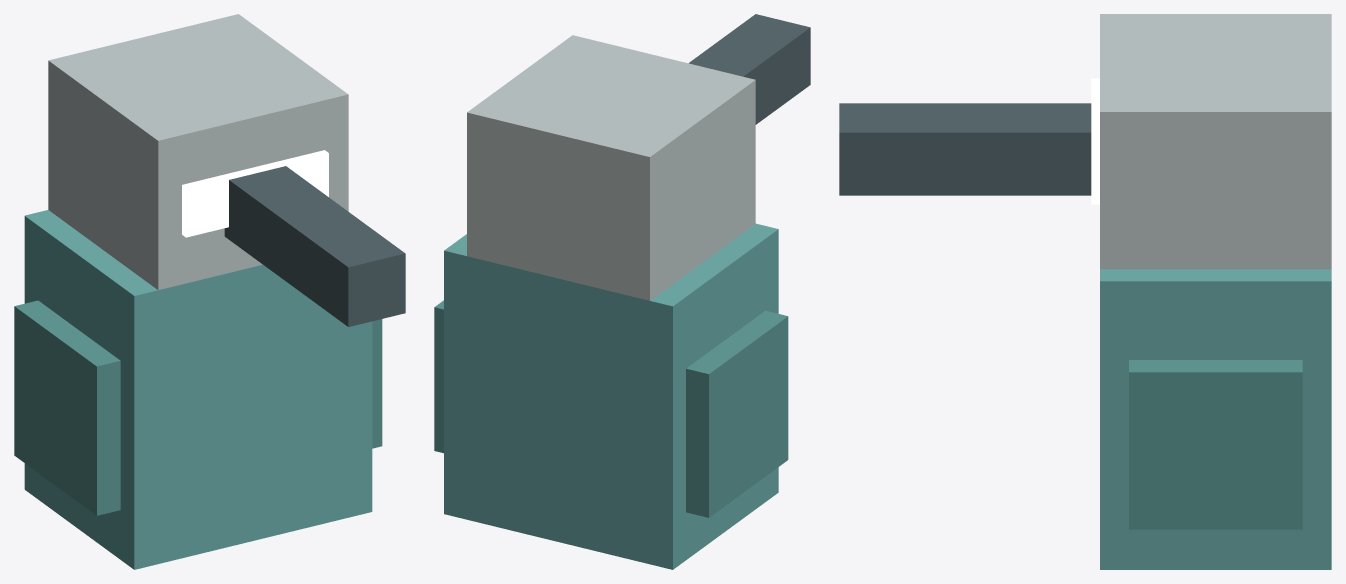
Rendered from hero.glb.
The picture shows the model from 3 angles, left to right: view 1: azimuth 30°, elevation 25°; view 2: azimuth 150°, elevation 25°; view 3: azimuth 270°, elevation 25°; orthographic projection. The views are drawn at different scales.
Parts seen in each view (by area): view 1: body, turret; view 2: body, turret; view 3: turret, body.
Boxes of the visible parts, x1=… form: body: x1=14, y1=210, x2=382, y2=569; turret: x1=48, y1=14, x2=405, y2=326; body: x1=434, y1=223, x2=788, y2=569; turret: x1=467, y1=14, x2=810, y2=300; turret: x1=839, y1=14, x2=1331, y2=269; body: x1=1100, y1=269, x2=1331, y2=569.
Size of the model in its own units: 0.75 by 1.06 by 1.06.
